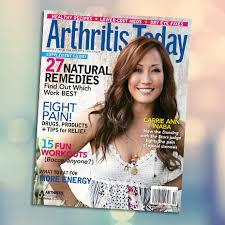Printing industry: (28, 4, 196, 220)
